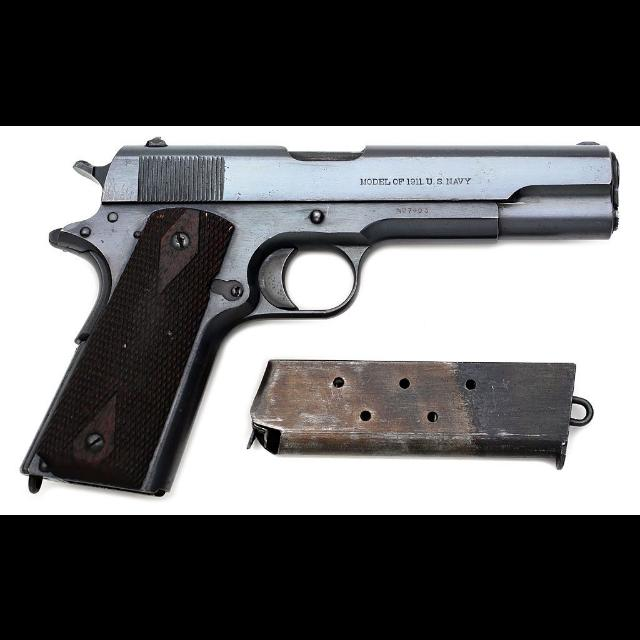handgun: (17, 132, 623, 498)
